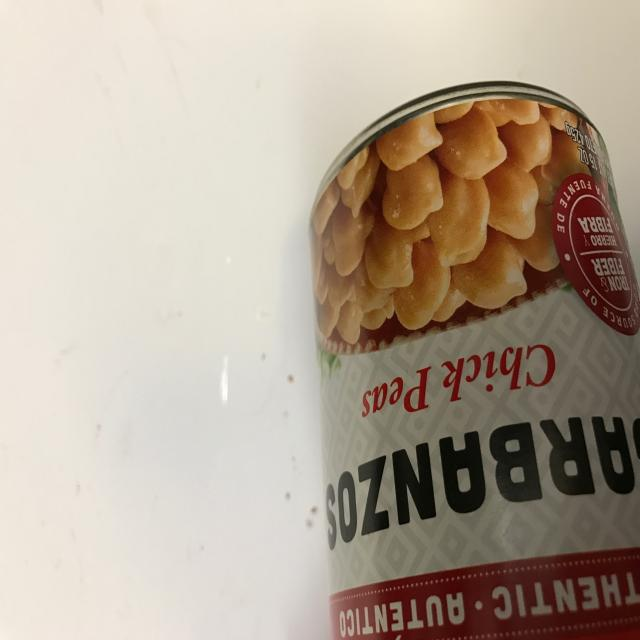metal: (295, 40, 640, 640)
